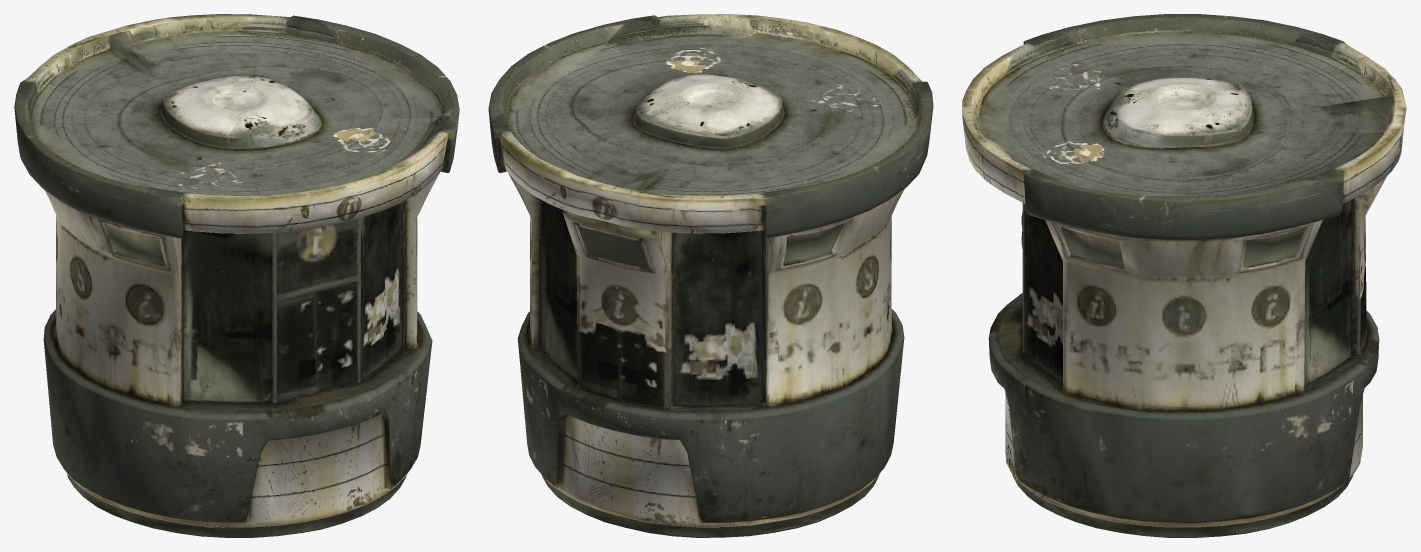
Rendered from Meshy_AI_Rusted_Information_Ki_0519015717_texture.fbx.
3 renders of one model, left to right at view 1: azimuth 30°, elevation 25°; view 2: azimuth 150°, elevation 25°; view 3: azimuth 270°, elevation 25°, orthographic.
Visible parts, largest first — view 1: Mesh_0; view 2: Mesh_0; view 3: Mesh_0.
Part boxes in pixels (x1,y1,x2,y2): Mesh_0: (14,14,459,537); Mesh_0: (488,14,933,537); Mesh_0: (962,14,1406,537).
Size of the model in its own units: 190 by 174 by 190.
Materials: 1 (1 with a texture image).
